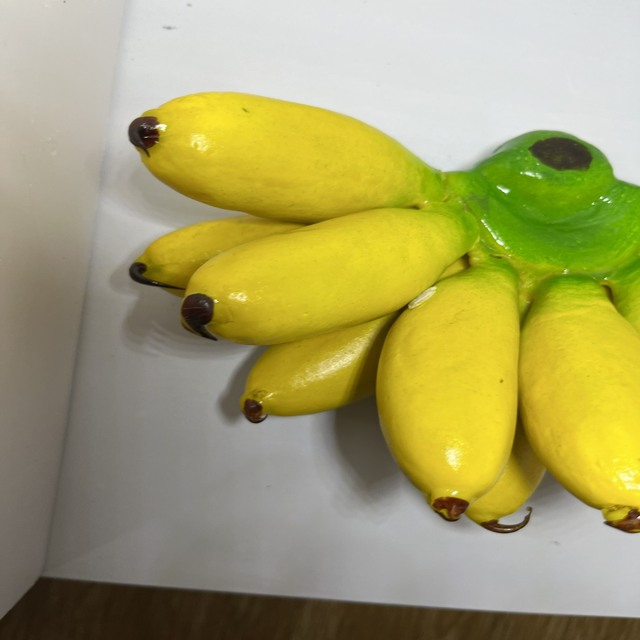Chuoi: (117, 86, 640, 541)
